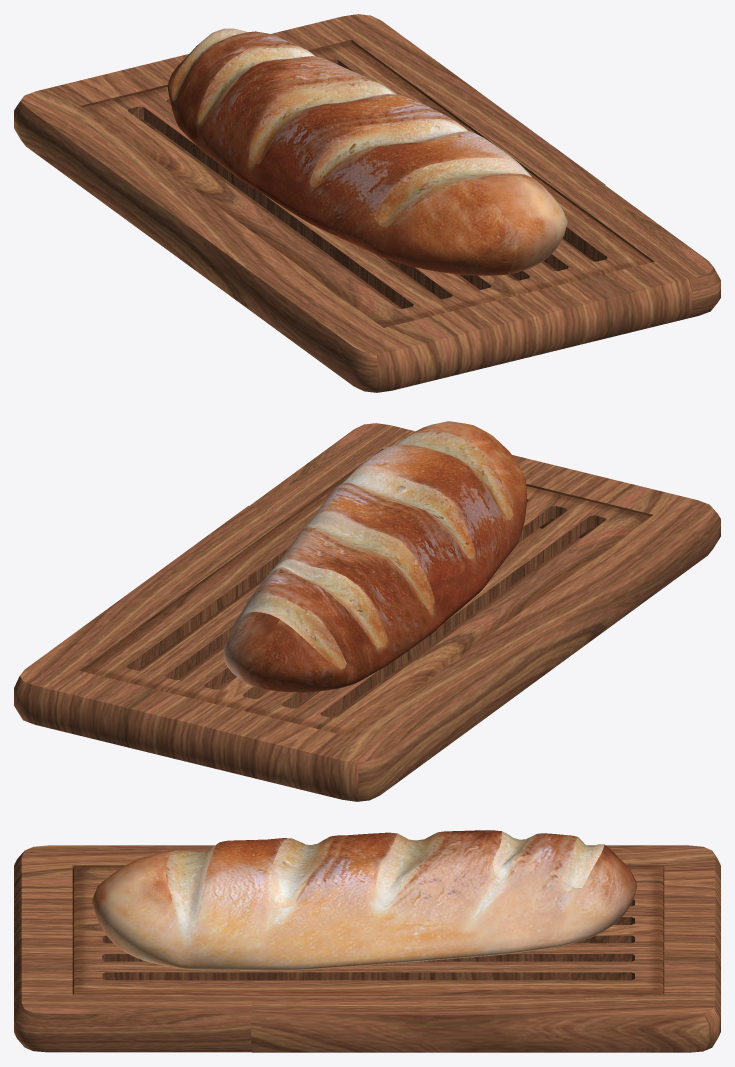
File: French Bread.fbx
3 views of the same model, one above another, from view 1: azimuth 30°, elevation 25°; view 2: azimuth 150°, elevation 25°; view 3: azimuth 270°, elevation 25° (orthographic). The views are drawn at different scales.
Parts seen in each view (by area): view 1: cuttingboard, bread, top_of_cutting_board, knife; view 2: cuttingboard, bread, top_of_cutting_board, knife; view 3: bread, cuttingboard, top_of_cutting_board, knife.
Part boxes in pixels (bbox=[...]): cuttingboard: bbox=[14, 14, 692, 392]; bread: bbox=[168, 28, 567, 275]; top_of_cutting_board: bbox=[82, 42, 651, 327]; knife: bbox=[571, 184, 720, 317]; cuttingboard: bbox=[14, 428, 720, 801]; bread: bbox=[223, 421, 526, 692]; top_of_cutting_board: bbox=[82, 473, 651, 736]; knife: bbox=[250, 423, 400, 513]; bread: bbox=[92, 830, 637, 970]; cuttingboard: bbox=[14, 845, 720, 1052]; top_of_cutting_board: bbox=[72, 867, 664, 994]; knife: bbox=[14, 998, 251, 1052].
Size of the model in its own units: 34.73 by 11.09 by 60.2.
Materials: 4 (4 with a texture image).
